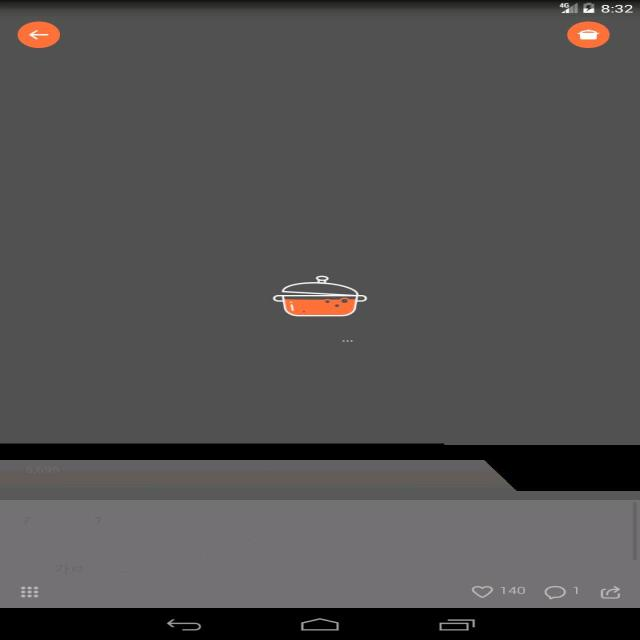button: (15, 16, 66, 52), (564, 21, 616, 51), (12, 580, 48, 603)
image: (271, 275, 371, 323)
text: (464, 581, 631, 604)
